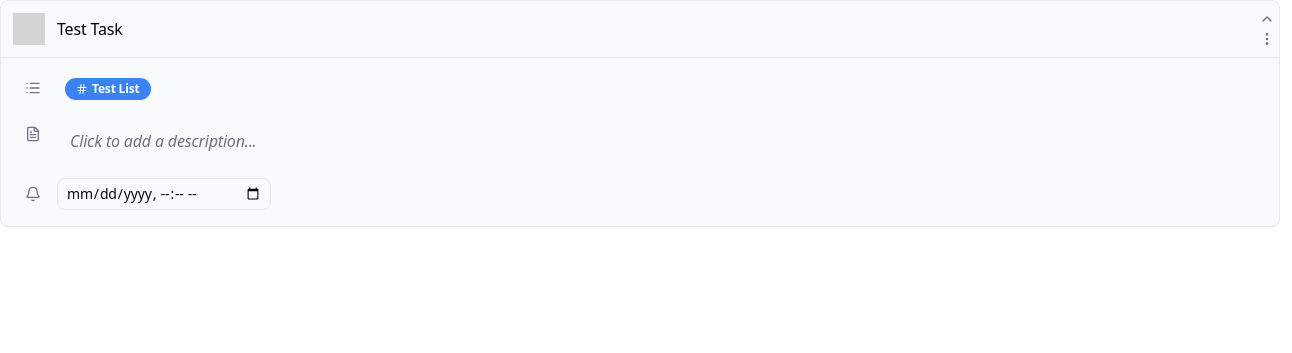
Test: TaskDetail — expand to full screen (task 0ea0b818) › an inline/board panel expands when its renderer opts in (task 52bf1efb)
Expected: the button "Full screen" is not shown
Click the button named "Task actions" at (1267, 39), box [1257,29,1277,49]
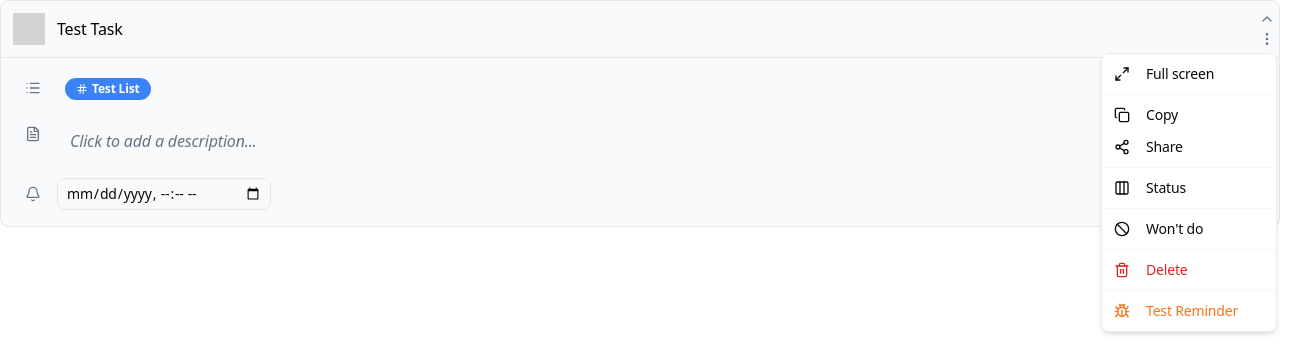
Now the menu item "Full screen" is shown, box [1114,64,1214,83]
